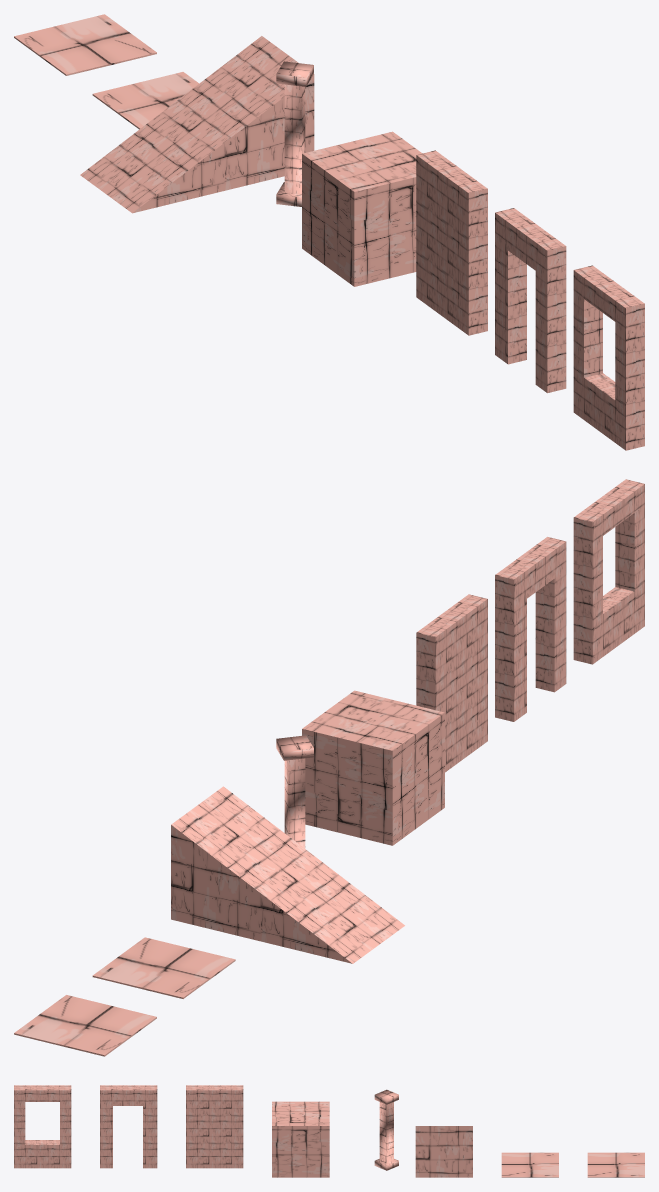
File: TESTELEVEL.glb
3 views of the same model, one above another, from view 1: azimuth 30°, elevation 25°; view 2: azimuth 150°, elevation 25°; view 3: azimuth 270°, elevation 25° (orthographic). The views are drawn at different scales.
Visible parts, largest first — view 1: Cube.005, Cube, Cube.001, Cube.004, Cube.002, Cube.007, Cube.003, Cube.006; view 2: Cube.005, Cube, Cube.004, Cube.002, Cube.001, Cube.006, Cube.007, Cube.003; view 3: Cube.001, Cube, Cube.004, Cube.005, Cube.002, Cube.006, Cube.007, Cube.003.
Boxes of the visible parts, x1,y1,x2,y2 form: Cube.005: [80, 36, 314, 213]; Cube: [302, 131, 422, 286]; Cube.001: [416, 150, 487, 335]; Cube.004: [573, 265, 644, 450]; Cube.002: [495, 208, 566, 393]; Cube.007: [14, 14, 156, 75]; Cube.003: [276, 61, 313, 206]; Cube.006: [92, 72, 198, 129]; Cube.005: [171, 786, 404, 963]; Cube: [302, 690, 444, 845]; Cube.004: [573, 479, 644, 664]; Cube.002: [495, 537, 566, 721]; Cube.001: [416, 594, 487, 772]; Cube.006: [92, 937, 235, 998]; Cube.007: [14, 995, 156, 1056]; Cube.003: [276, 735, 313, 848]; Cube.001: [186, 1085, 243, 1168]; Cube: [272, 1101, 329, 1177]; Cube.004: [14, 1085, 71, 1168]; Cube.005: [415, 1126, 472, 1177]; Cube.002: [100, 1085, 157, 1168]; Cube.006: [501, 1152, 558, 1177]; Cube.007: [587, 1152, 644, 1177]; Cube.003: [374, 1089, 398, 1170].
Size of the model in its own units: 4.01 by 3 by 22.
1 material, 1 textured.
